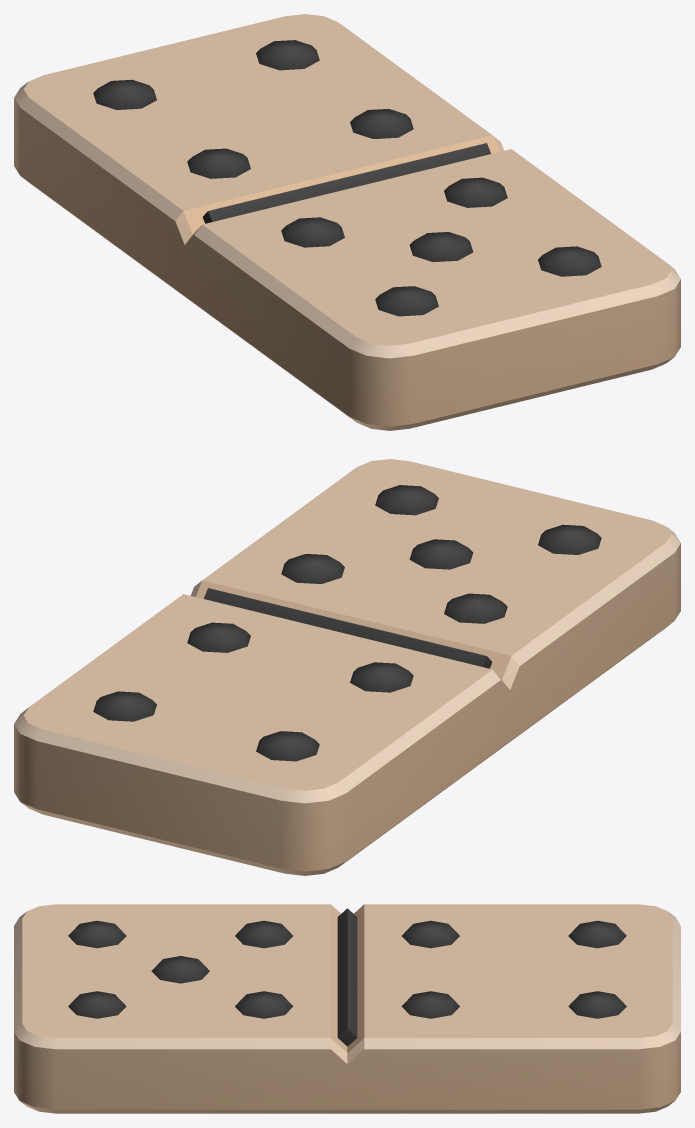
Rendered from domino_tile_4-5.glb.
The picture shows the model from 3 angles, top to bottom: view 1: azimuth 30°, elevation 25°; view 2: azimuth 150°, elevation 25°; view 3: azimuth 270°, elevation 25°; orthographic projection. The views are drawn at different scales.
Parts seen in each view (by area): view 1: domino_tile_4-5; view 2: domino_tile_4-5; view 3: domino_tile_4-5.
Boxes of the visible parts, left/top/right/bottom form: domino_tile_4-5: left=14, top=14, right=680, bottom=430; domino_tile_4-5: left=14, top=459, right=680, bottom=875; domino_tile_4-5: left=14, top=904, right=680, bottom=1113.
Size of the model in its own units: 1 by 0.2767 by 2.
1 material, 1 textured.
